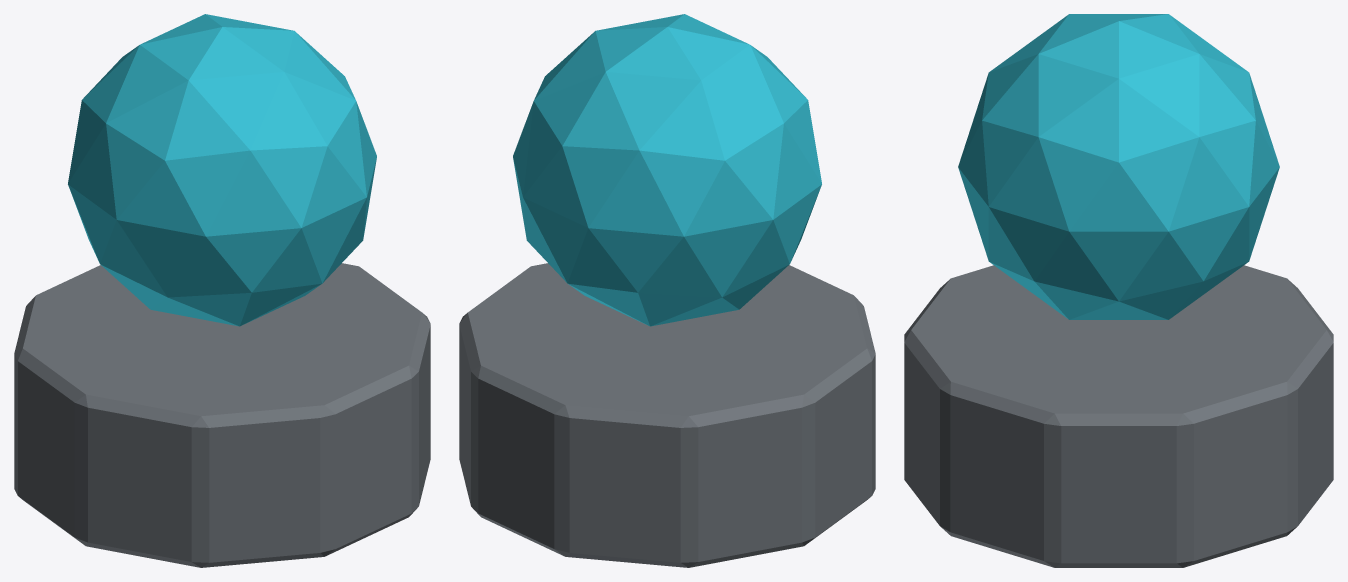
The model's file is energy_node.glb.
The picture shows the model from 3 angles, left to right: view 1: azimuth 30°, elevation 25°; view 2: azimuth 150°, elevation 25°; view 3: azimuth 270°, elevation 25°; orthographic projection.
Visible parts, largest first — view 1: energy_node; view 2: energy_node; view 3: energy_node.
Boxes of the visible parts, bbox=[...] form: energy_node: bbox=[14, 14, 430, 567]; energy_node: bbox=[459, 14, 875, 567]; energy_node: bbox=[904, 14, 1333, 567].
Bounding box in the file's own units: 0.2187 × 0.27 × 0.2269.
